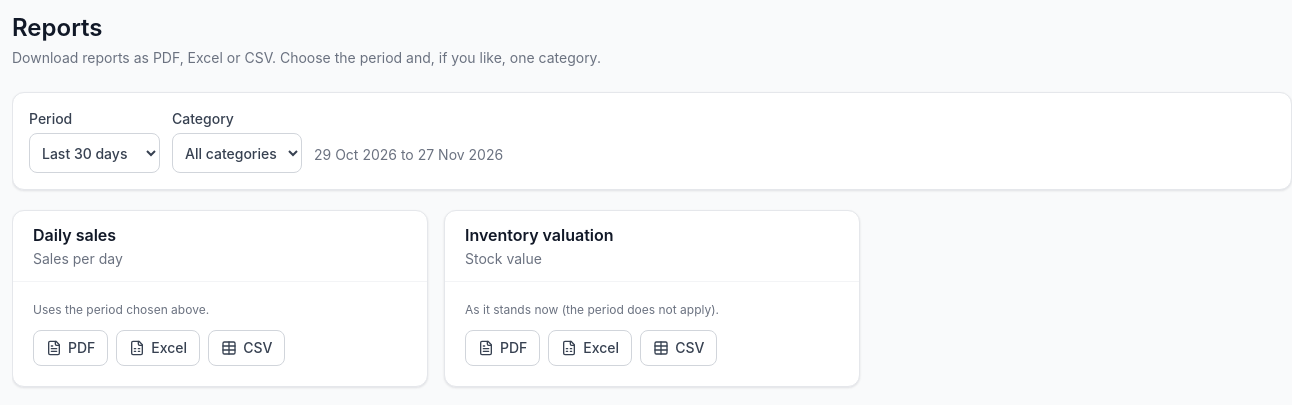
Scenario: ReportsPage › downloads the chosen report with the period and category
The width and height of the screenshot is (1292, 405).
Select "Dairy" in the dropdown labelled "Category" at (237, 153), box top-left (172, 133), bottom-right (302, 173)
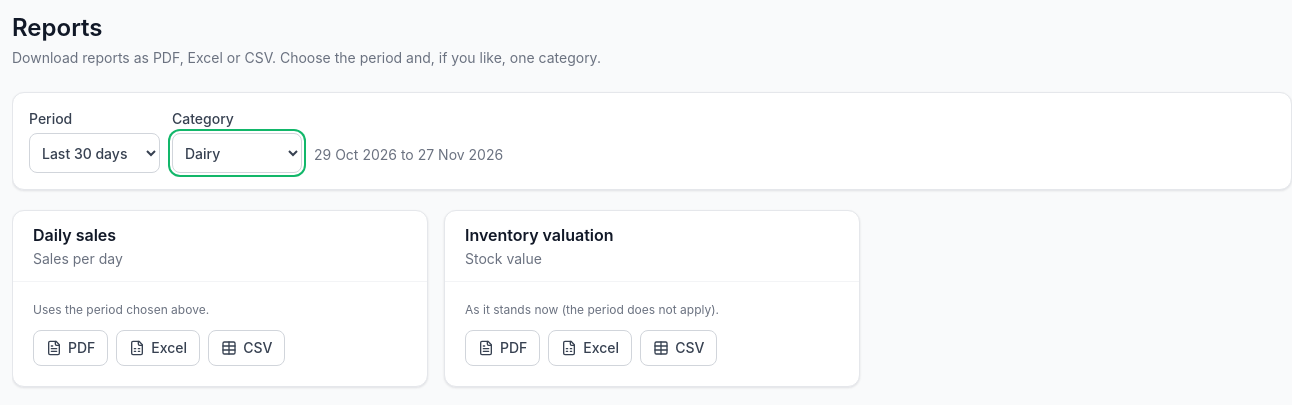
Click the button with aria-label "Download Daily sales as Excel" at (158, 348), box top-left (116, 330), bottom-right (200, 366)
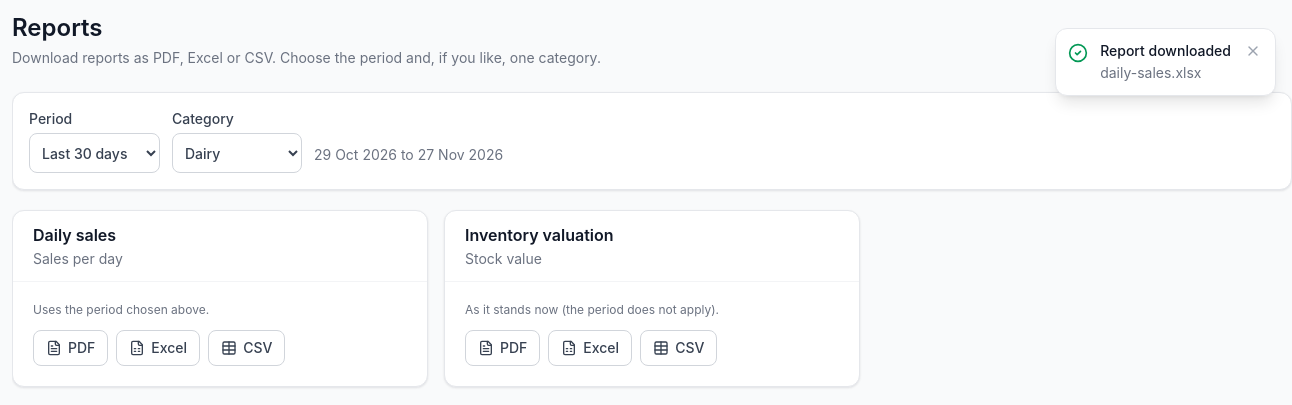
Click the button with aria-label "Download Inventory valuation as PDF" at (503, 348), box top-left (465, 330), bottom-right (540, 366)
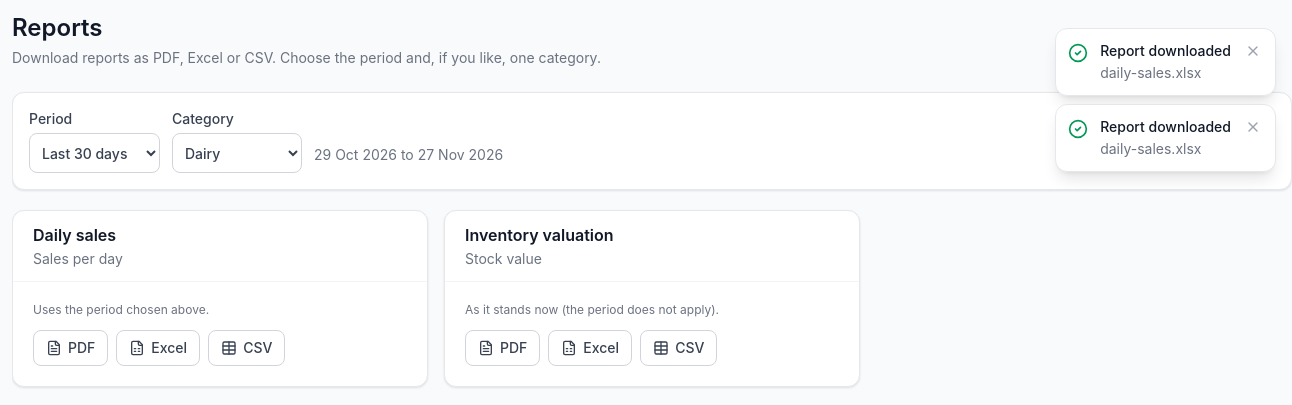
Expected: the text "Report downloaded" is shown 2 times, top-left (1100, 41), bottom-right (1231, 61); top-left (1100, 117), bottom-right (1231, 137)
